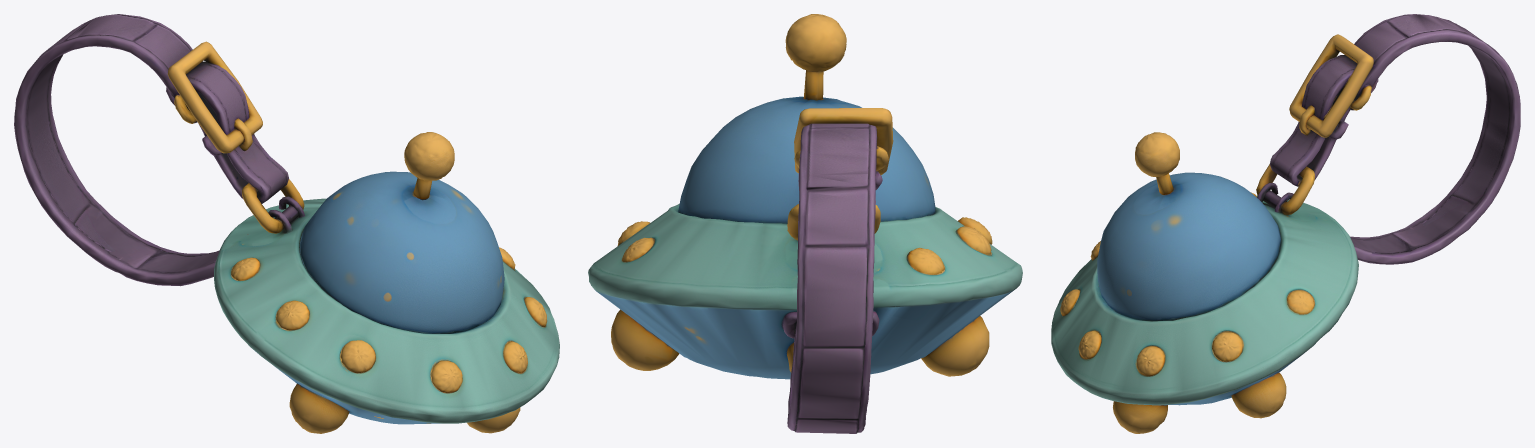
Rendered from mem_ac_spacetoy.fbx.
3 views of the same model, side by side, from view 1: azimuth 30°, elevation 25°; view 2: azimuth 150°, elevation 25°; view 3: azimuth 270°, elevation 25° (orthographic). The views are drawn at different scales.
Visible parts, largest first — view 1: tripo_node_22c14e3a; view 2: tripo_node_22c14e3a; view 3: tripo_node_22c14e3a.
Part boxes in pixels (bbox=[...]): tripo_node_22c14e3a: bbox=[14, 14, 559, 433]; tripo_node_22c14e3a: bbox=[588, 14, 1022, 433]; tripo_node_22c14e3a: bbox=[1051, 14, 1520, 433].
Bounding box in the file's own units: 0.8184 × 0.7363 × 0.998.
